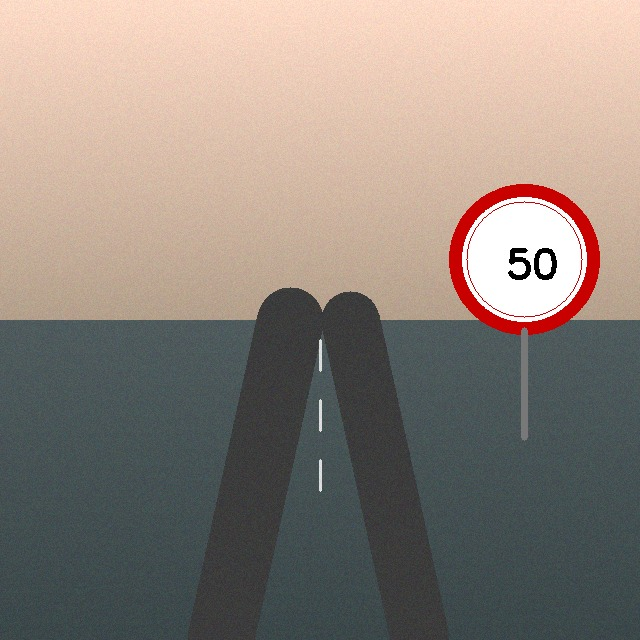velocidad: (453, 188, 595, 330)
